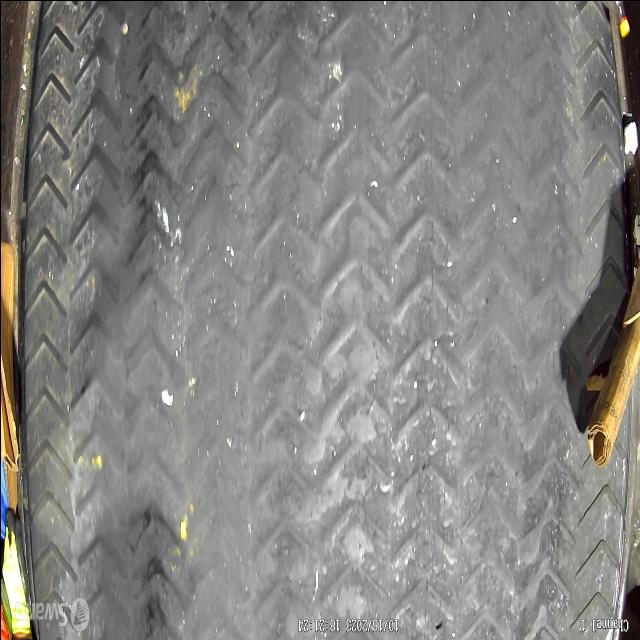plastic_bottle: (602, 0, 630, 36)
